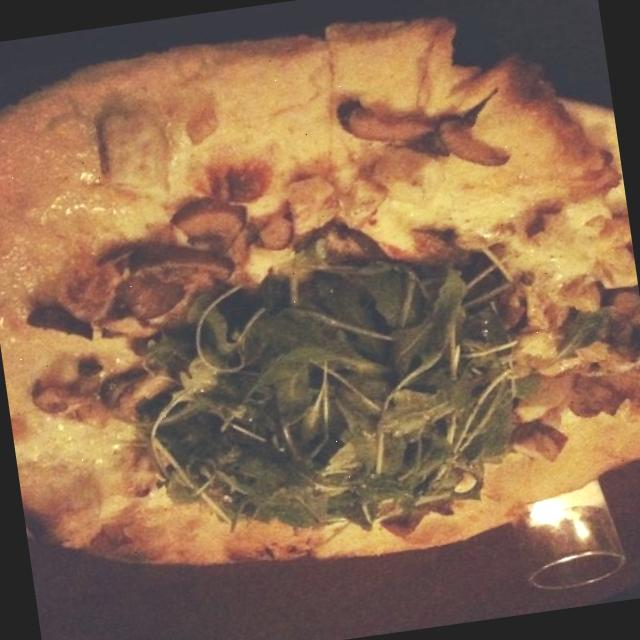basil: (152, 223, 562, 552)
pizza: (0, 18, 640, 564)
